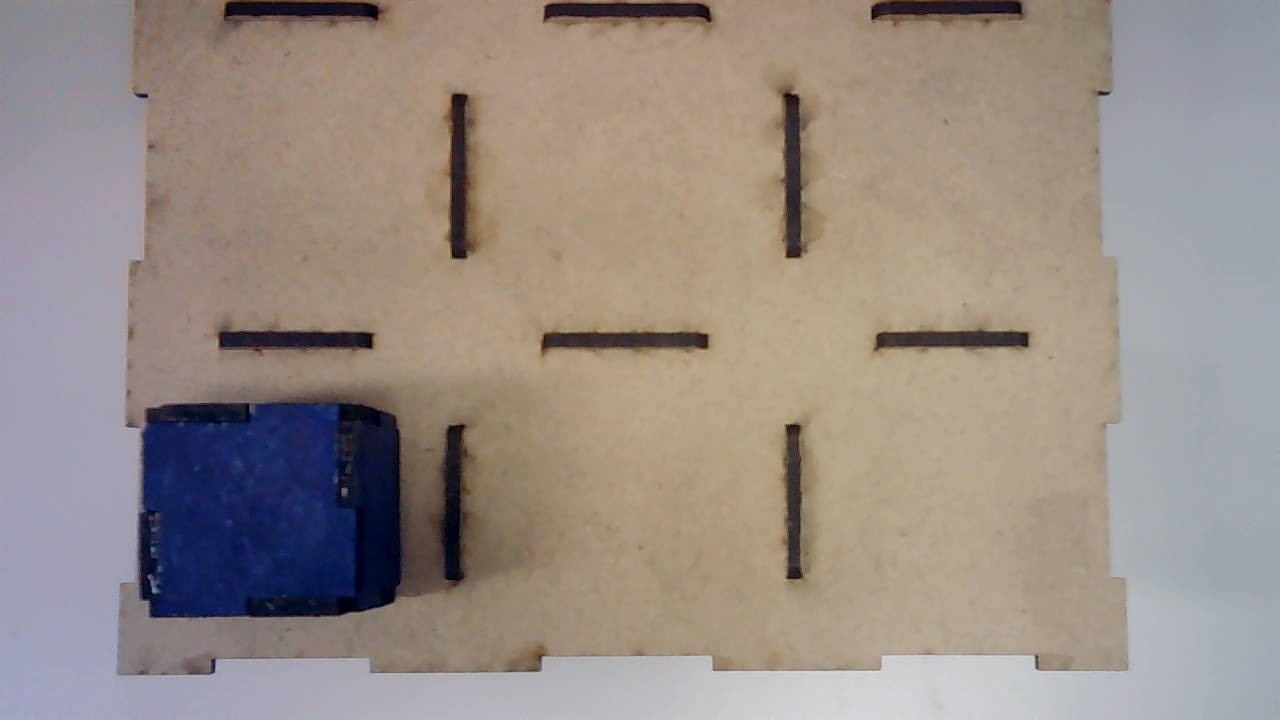blue box: (136, 400, 401, 618)
